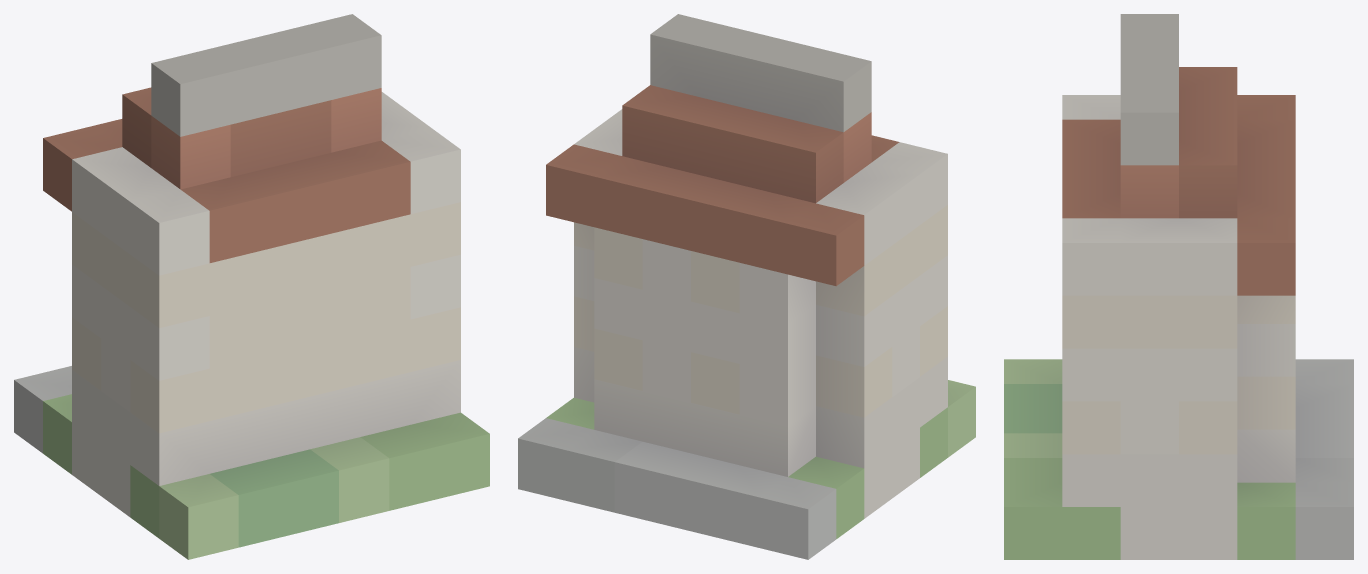
Rendered from house_patricians.v1.lite.glb.
3 views of the same model, side by side, from view 1: azimuth 30°, elevation 25°; view 2: azimuth 150°, elevation 25°; view 3: azimuth 270°, elevation 25° (orthographic). The views are drawn at different scales.
Parts seen in each view (by area): view 1: house_patricians; view 2: house_patricians; view 3: house_patricians.
Boxes of the visible parts, x1,y1,x2,y2 form: house_patricians: (14,14,489,559); house_patricians: (518,14,975,559); house_patricians: (1004,14,1353,559).
Size of the model in its own units: 3 by 4 by 3.
